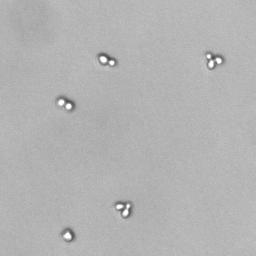budding: (112, 200, 134, 221), (53, 94, 76, 112), (204, 51, 224, 71), (97, 53, 119, 68)
individual: (59, 227, 75, 242)
